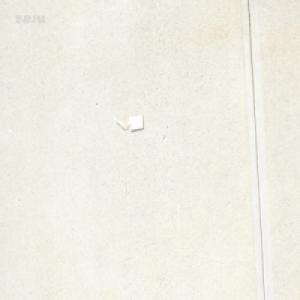LuggageTag: (113, 113, 144, 131)
